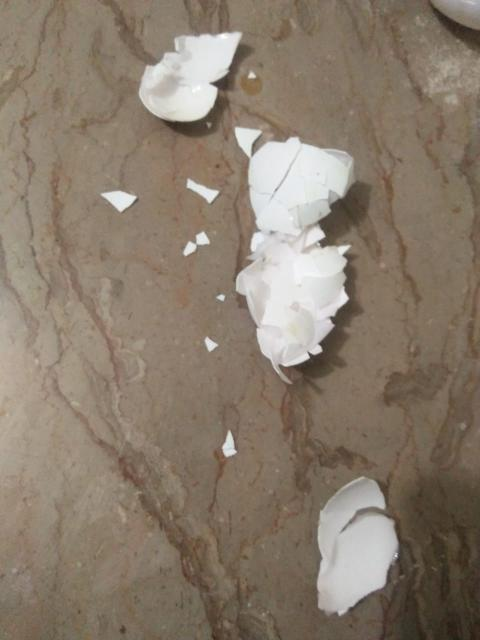Roto: (233, 126, 356, 384), (314, 477, 401, 618), (138, 30, 242, 123)
